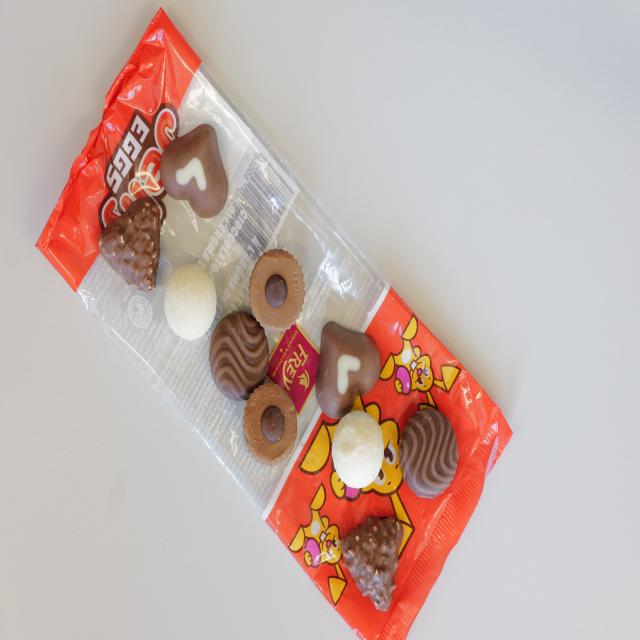Comtesse: (332, 410, 386, 489), (166, 266, 216, 340)
Noblesse: (251, 248, 305, 332), (245, 382, 299, 463)
Noir_authentique: (212, 308, 270, 401), (400, 405, 458, 495)
Passion_au_lait: (158, 121, 228, 220), (319, 320, 380, 420)
Triangolo: (100, 195, 166, 292), (346, 512, 405, 612)
